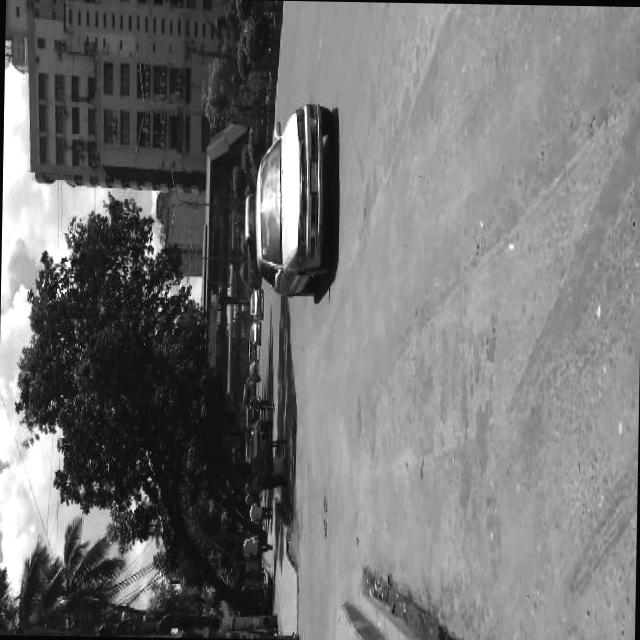car: (252, 98, 336, 297), (248, 285, 263, 317), (249, 319, 261, 344)
motorcycle: (246, 371, 259, 381)
